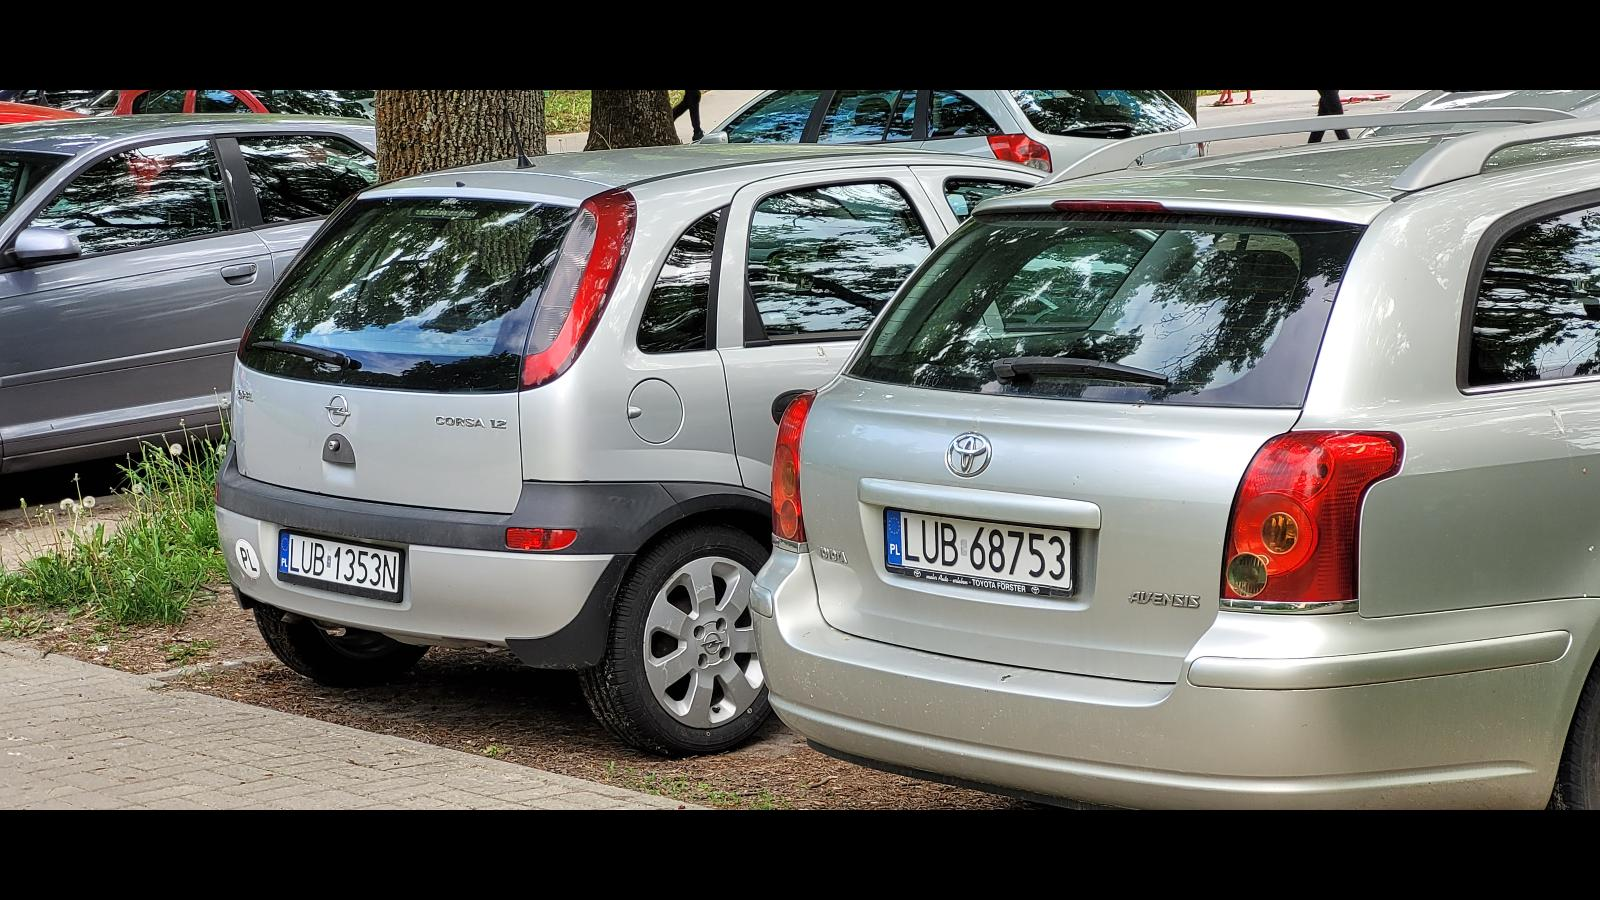plates: (883, 506, 1073, 598), (278, 530, 402, 603)
